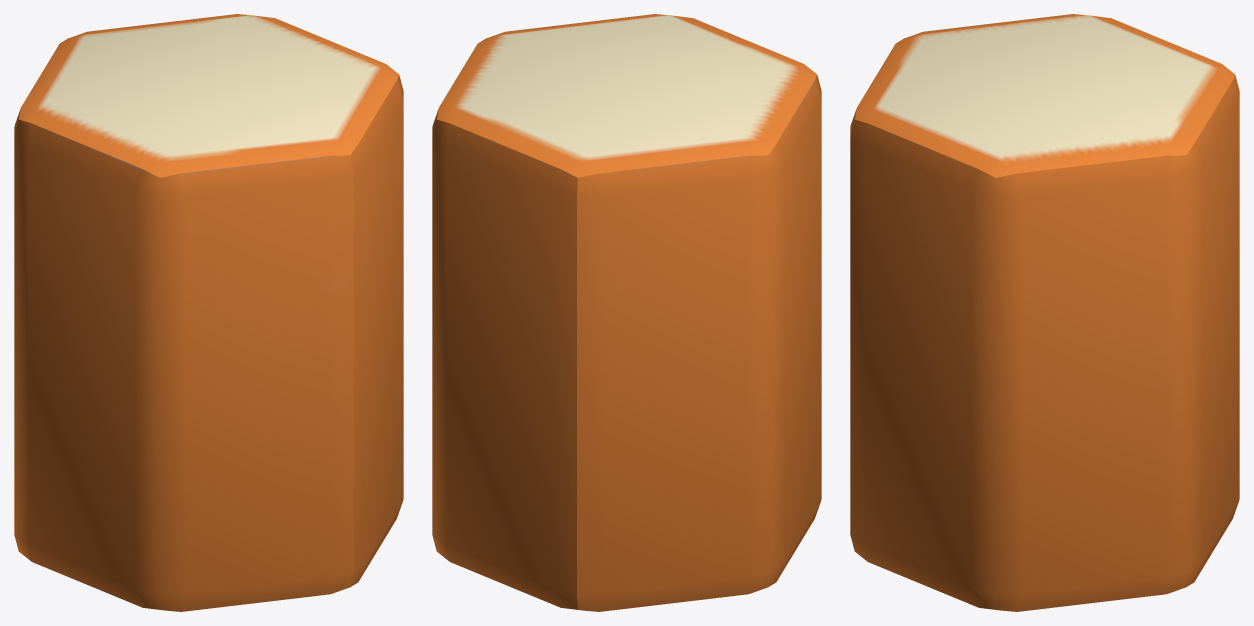
The model's file is Shelf Item (6).fbx.
The picture shows the model from 3 angles, left to right: view 1: azimuth 30°, elevation 25°; view 2: azimuth 150°, elevation 25°; view 3: azimuth 270°, elevation 25°; orthographic projection.
Parts seen in each view (by area): view 1: Object124; view 2: Object124; view 3: Object124.
Boxes of the visible parts, bbox=[...] form: Object124: bbox=[14, 14, 403, 611]; Object124: bbox=[432, 14, 821, 611]; Object124: bbox=[850, 14, 1239, 611].
Size of the model in its own units: 5.07 by 6.46 by 5.04.
